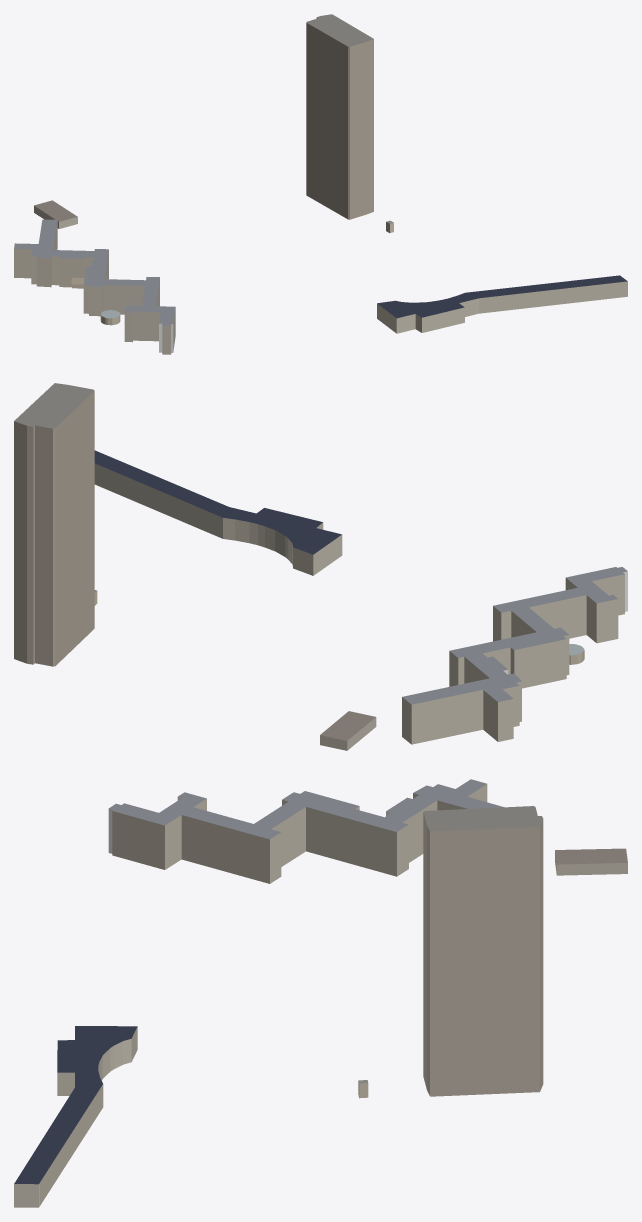
3 views of the same model, one above another, from view 1: azimuth 30°, elevation 25°; view 2: azimuth 150°, elevation 25°; view 3: azimuth 270°, elevation 25° (orthographic). The views are drawn at different scales.
Parts seen in each view (by area): view 1: tuile; view 2: tuile; view 3: tuile.
Boxes of the visible parts, box(x1,y1,x2,y2) form: tuile: box(14, 14, 627, 354); tuile: box(14, 383, 627, 750); tuile: box(14, 779, 627, 1207).
Size of the model in its own units: 357 by 138 by 266.
